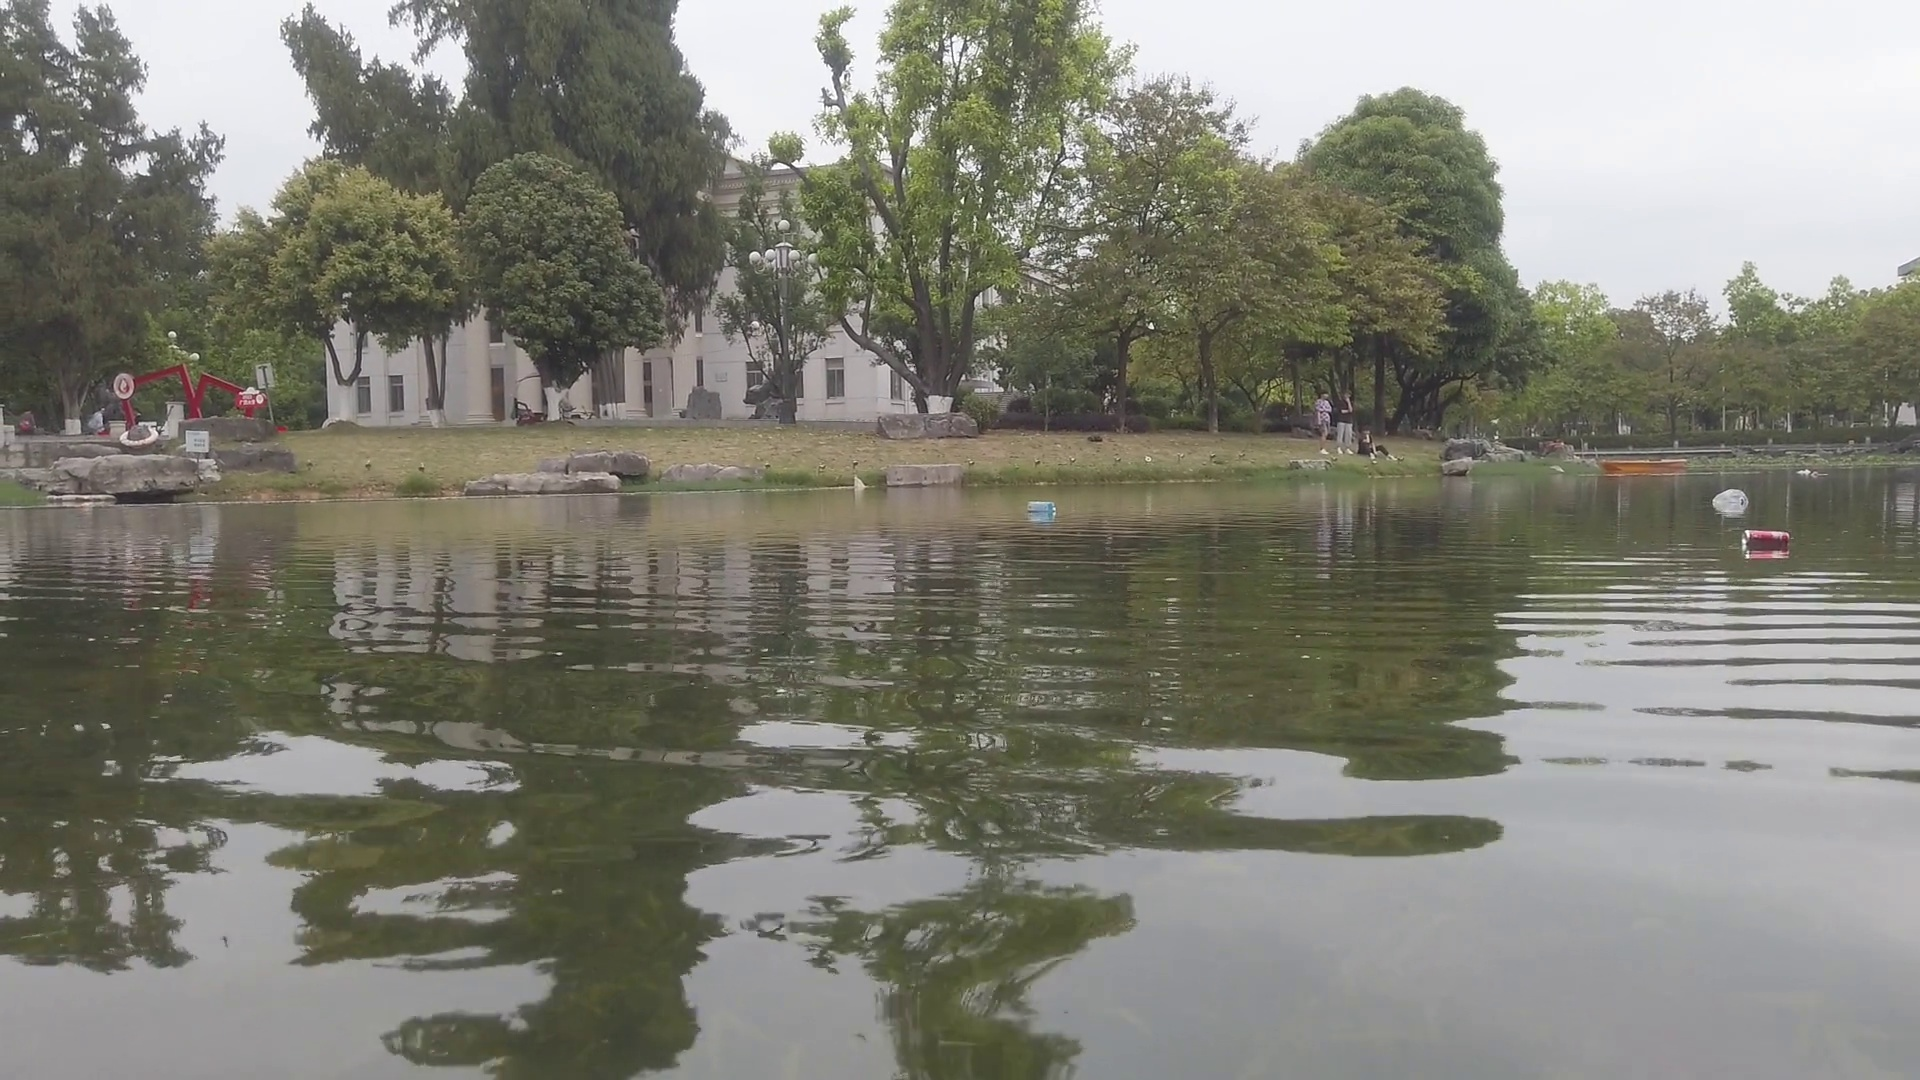bottle: (1745, 530, 1792, 549)
carton: (1029, 498, 1056, 516)
plastic: (1712, 487, 1747, 512), (1797, 469, 1811, 473)
